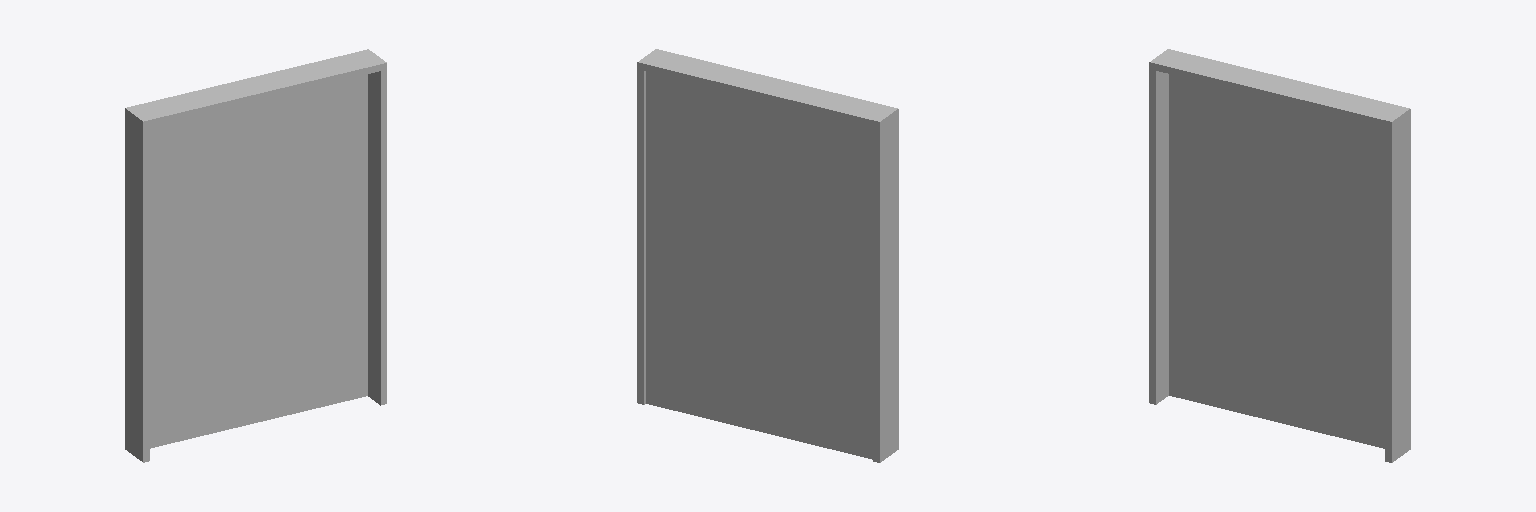
Rendered from Door squared.obj.
3 renders of one model, left to right at view 1: azimuth 30°, elevation 25°; view 2: azimuth 150°, elevation 25°; view 3: azimuth 330°, elevation 25°, orthographic.
Visible parts, largest first — view 1: Squared; view 2: Squared; view 3: Squared.
Boxes of the visible parts, x1,y1,x2,y2 form: Squared: [125, 49, 386, 462]; Squared: [637, 49, 898, 462]; Squared: [1149, 49, 1410, 462].
Size of the model in its own units: 74.91 by 100 by 10.24.